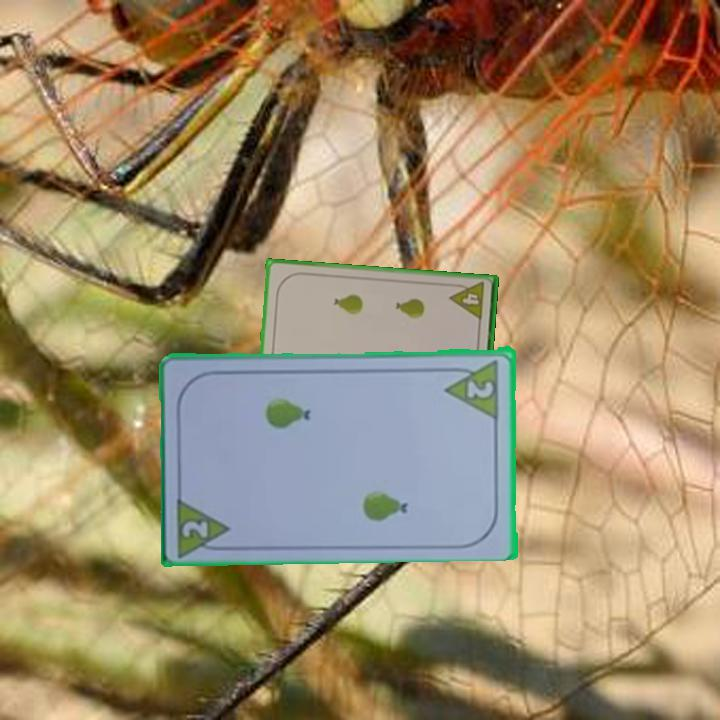2p: (464, 377, 497, 401), (178, 517, 211, 541)
4p: (447, 279, 487, 323)
